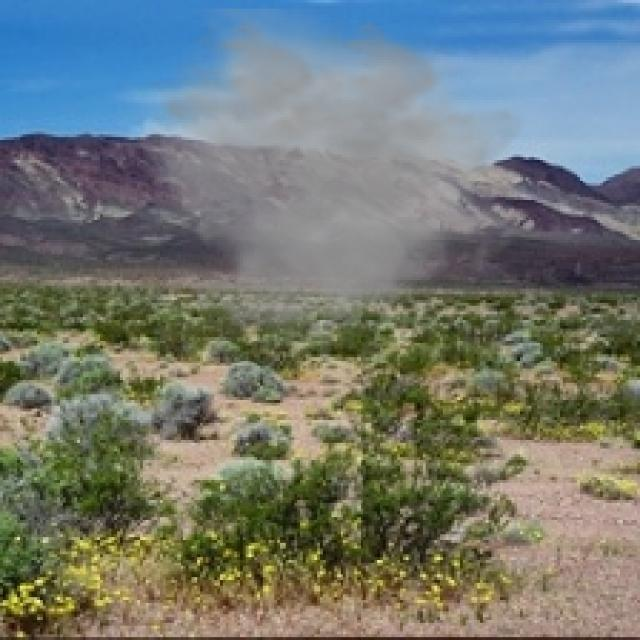smoke: (132, 8, 528, 363)
